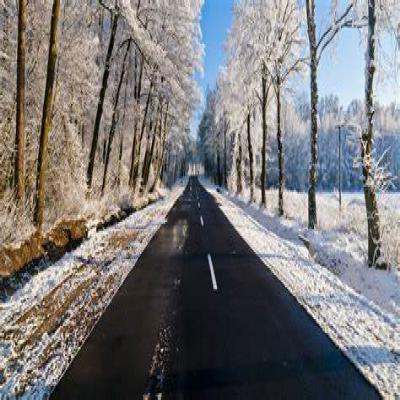clear-road: (176, 180, 380, 399)
iced-road: (52, 213, 187, 400)
